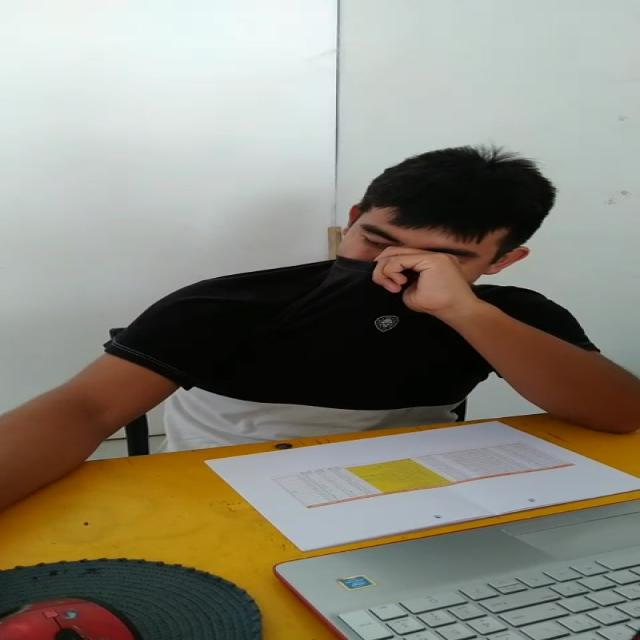8_ropa_rostro: (284, 246, 488, 348)
